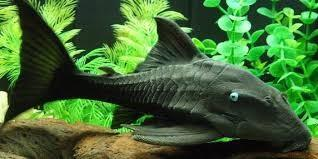Janitor Fish: (4, 1, 311, 156)
